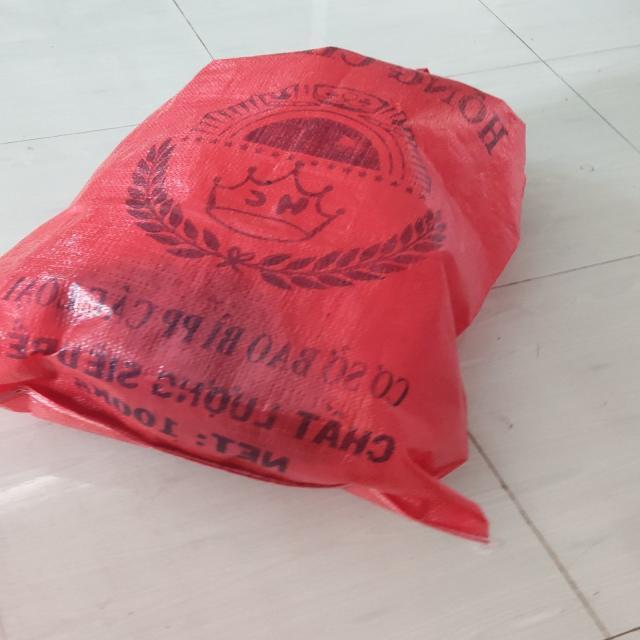gunny_bag: (0, 46, 526, 543)
